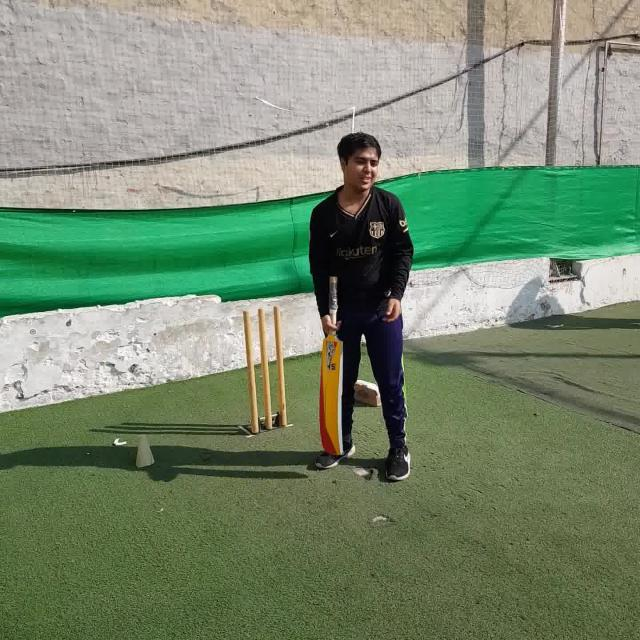bat: (317, 275, 343, 457)
